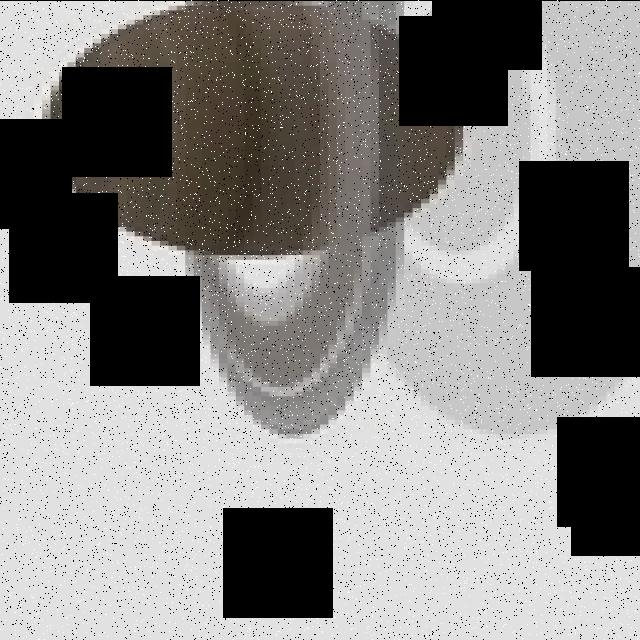Saturn: (33, 0, 463, 442)
